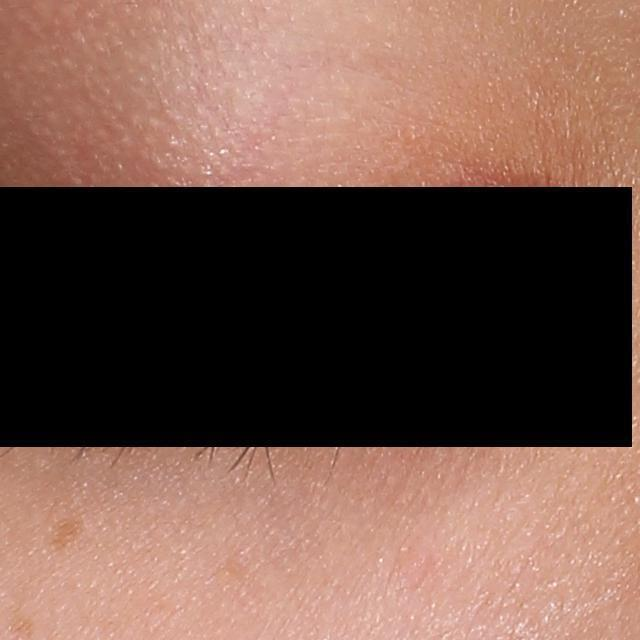melasma: (46, 515, 91, 554), (6, 613, 39, 638)
